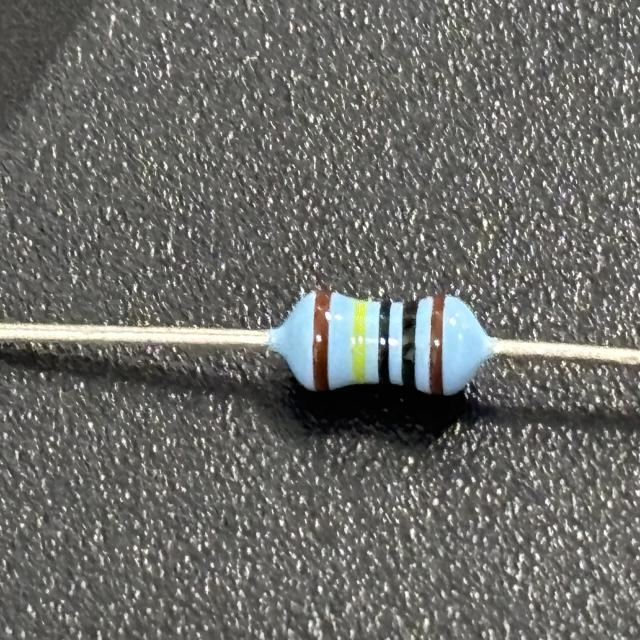resistor: (286, 282, 482, 402)
